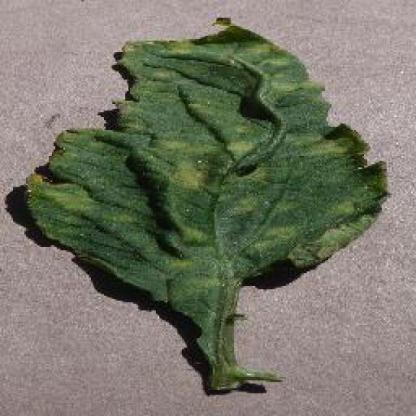Tomato_Leaf_Mold: (24, 36, 389, 292)
